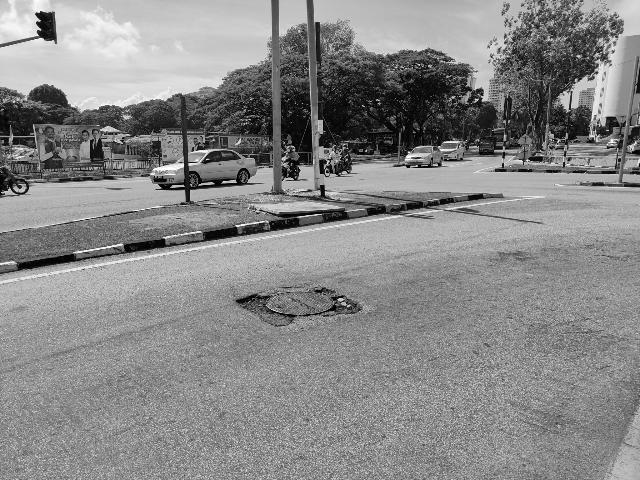Pothole: (234, 290, 364, 330)
